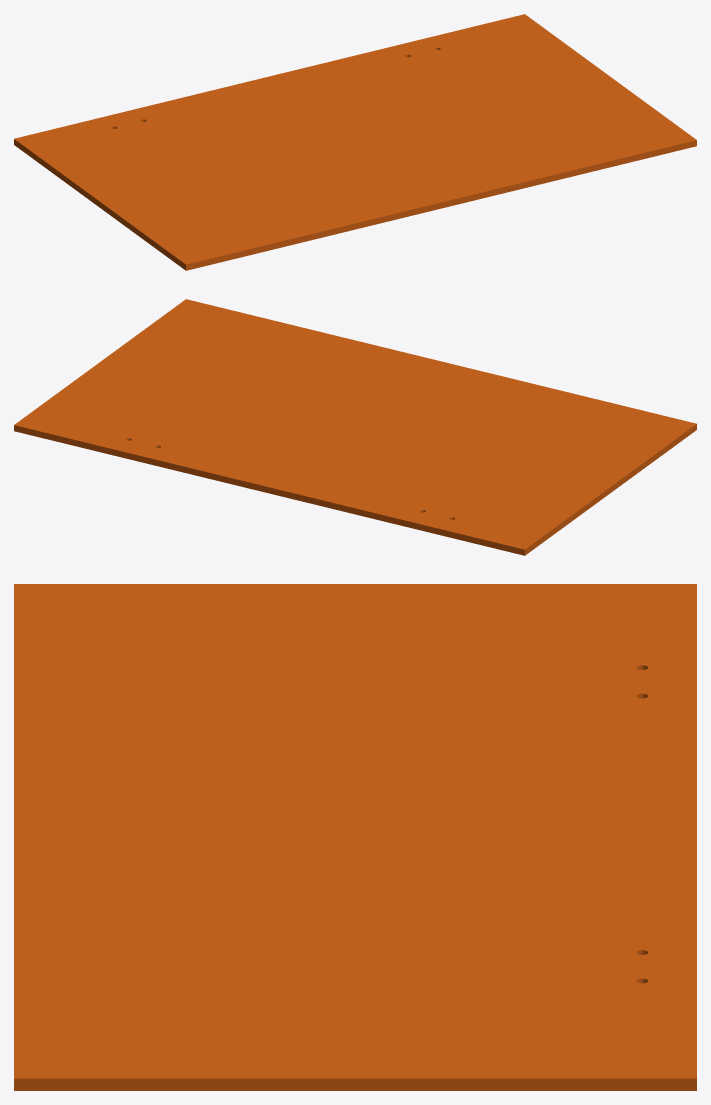
The model's file is NyxBoxV1_NyxRoyalLitterBot v106_FrontAccessPanel_1_RightDoor_1_Body1.obj.
3 renders of one model, top to bottom at view 1: azimuth 30°, elevation 25°; view 2: azimuth 150°, elevation 25°; view 3: azimuth 270°, elevation 25°, orthographic. The views are drawn at different scales.
Visible parts, largest first — view 1: Body1; view 2: Body1; view 3: Body1.
Boxes of the visible parts, x1,y1,x2,y2 form: Body1: [14, 14, 696, 270]; Body1: [14, 299, 696, 555]; Body1: [14, 584, 696, 1090].
Size of the model in its own units: 521 by 6 by 304.
